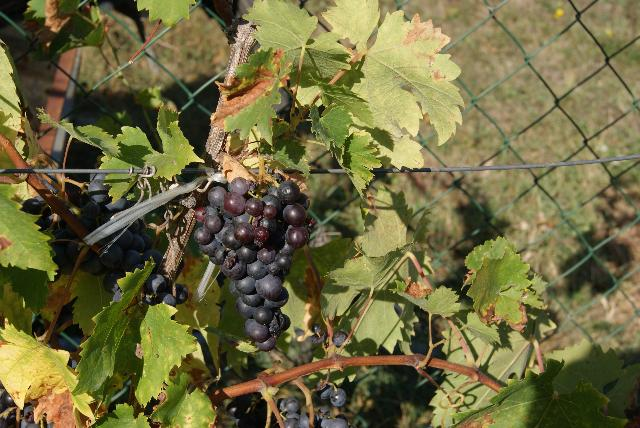grapes: (195, 176, 309, 350), (79, 219, 189, 306), (21, 195, 82, 275), (65, 172, 138, 231)
